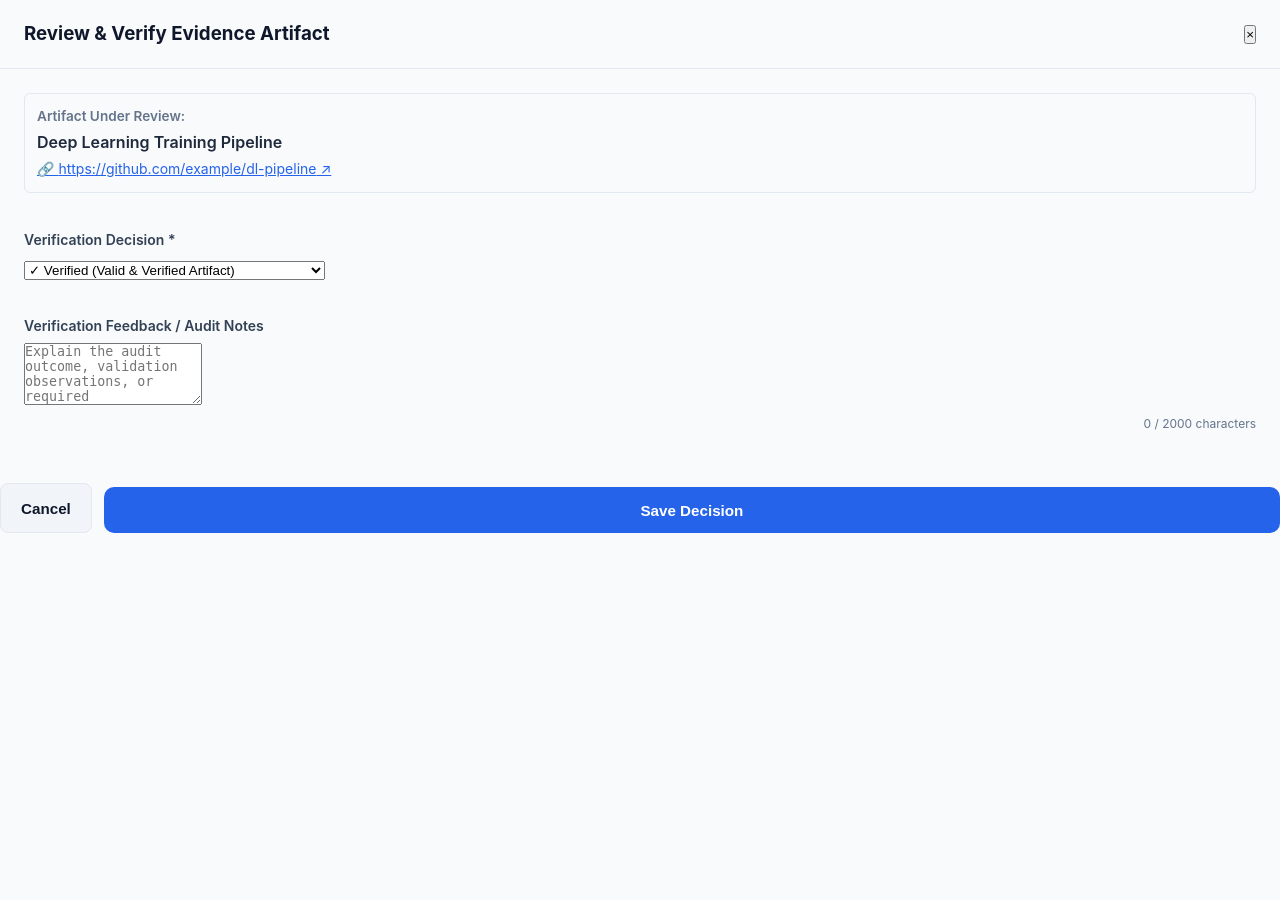
it: ProjectEvidenceVerificationModal Component › handles server rejection error gracefully
Click the button with test id "verification-submit-btn": (692, 510) [104,488,1279,534]
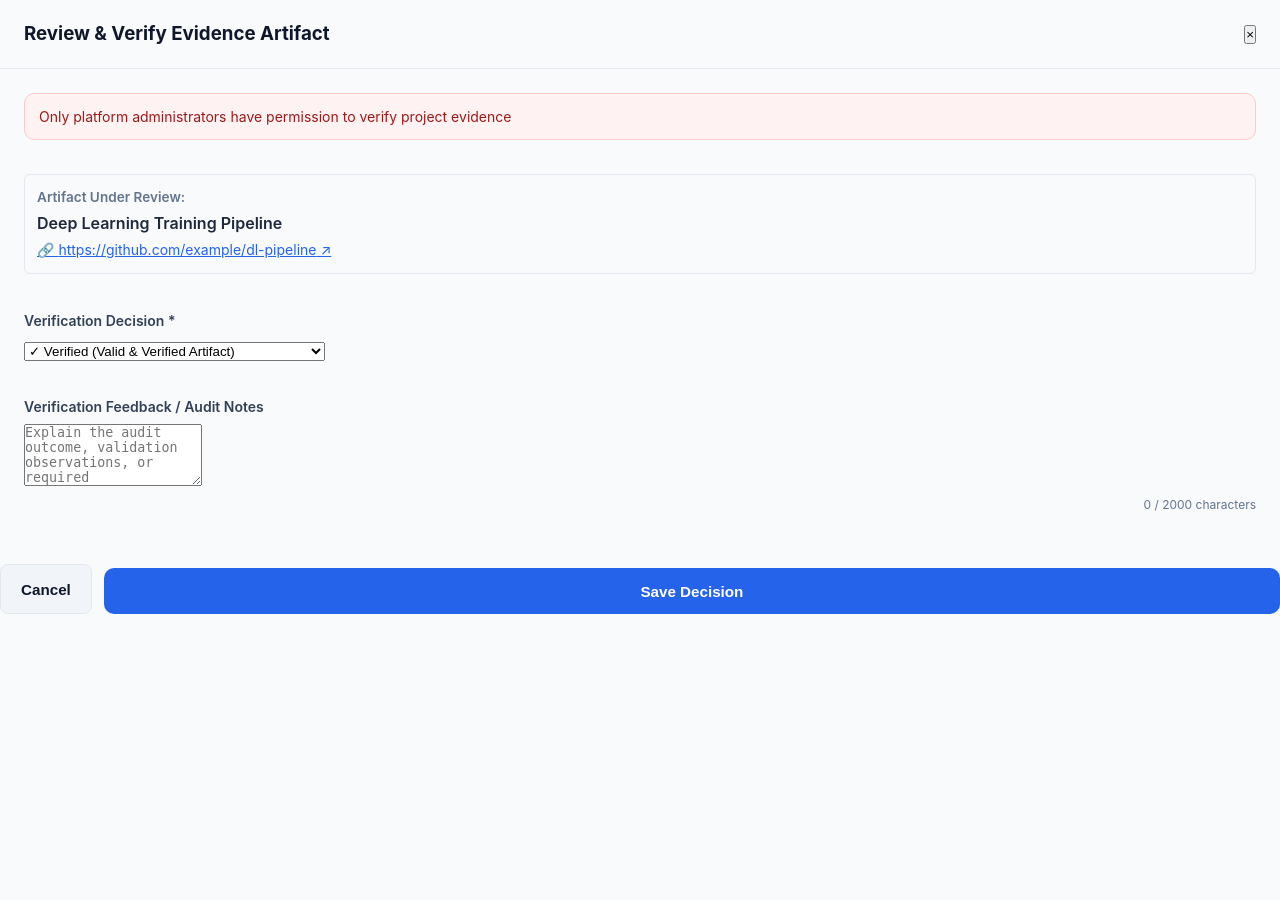
Result: the text "Only platform administrators have permission to verify project evidence" is shown at [24,93,1256,140]
